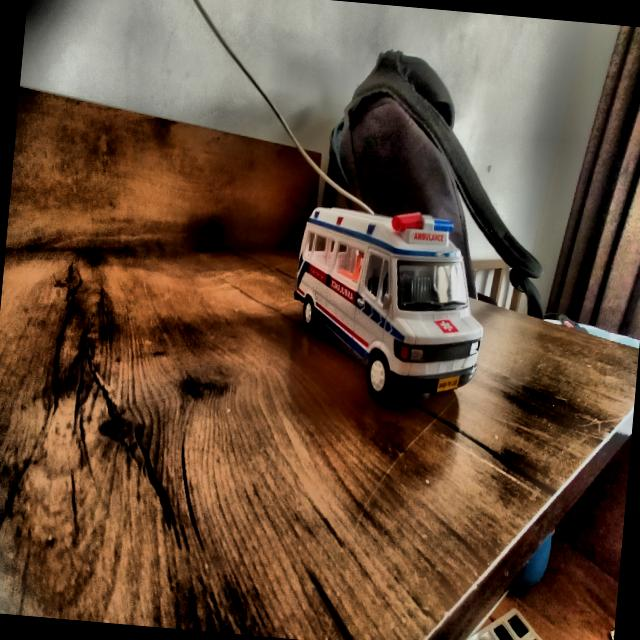Ambulance: (286, 202, 492, 410)
